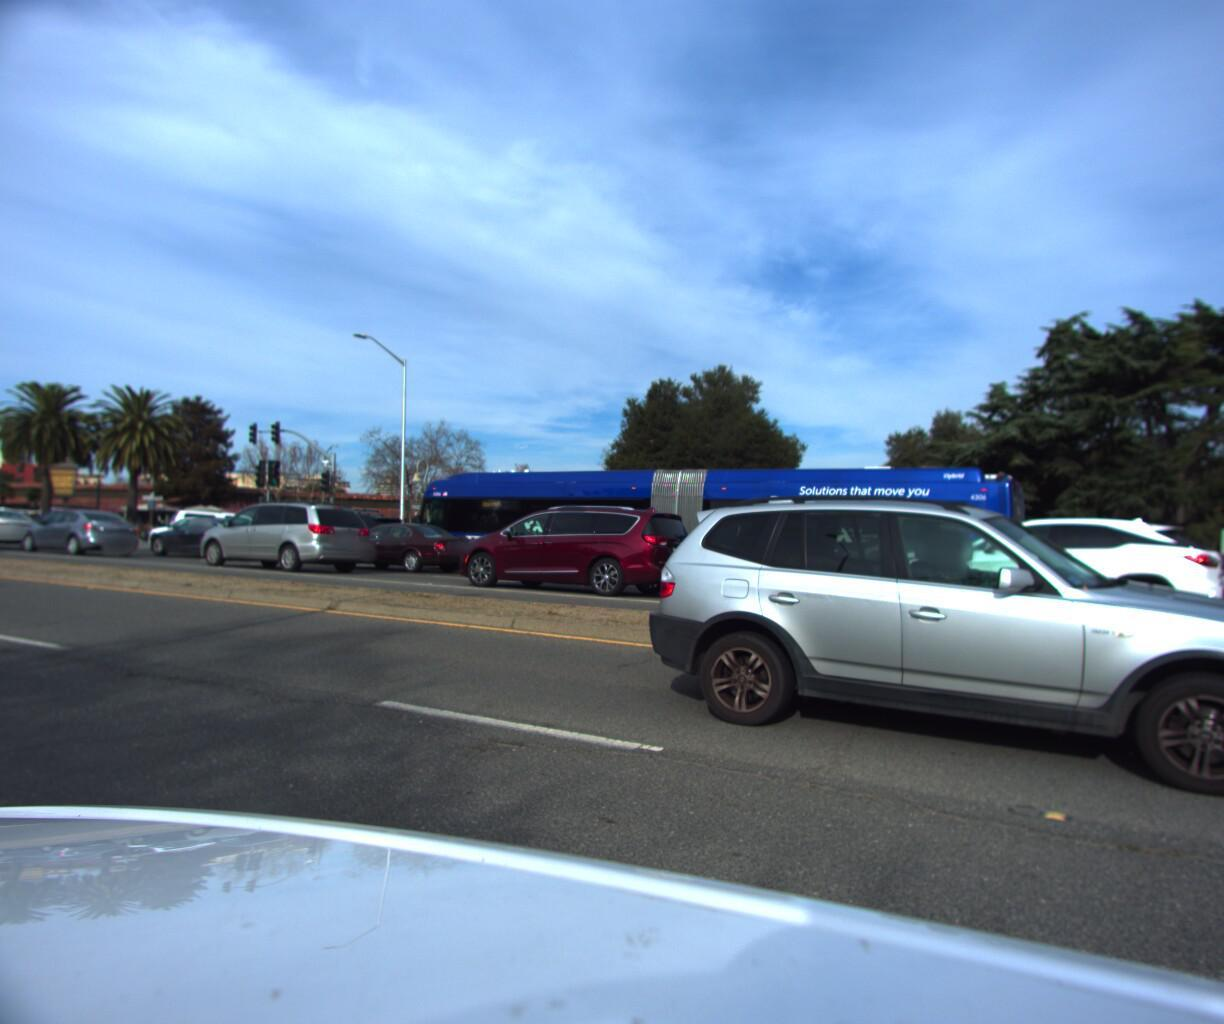bus: (397, 460, 1044, 612)
car: (626, 473, 1224, 814), (850, 500, 1224, 646), (429, 498, 703, 604), (180, 497, 390, 582), (312, 520, 482, 578), (0, 508, 147, 564), (274, 507, 419, 563), (1167, 510, 1224, 649), (135, 515, 278, 566), (100, 513, 224, 562), (1178, 514, 1224, 647), (169, 506, 290, 545), (0, 507, 46, 556), (0, 511, 65, 537)
